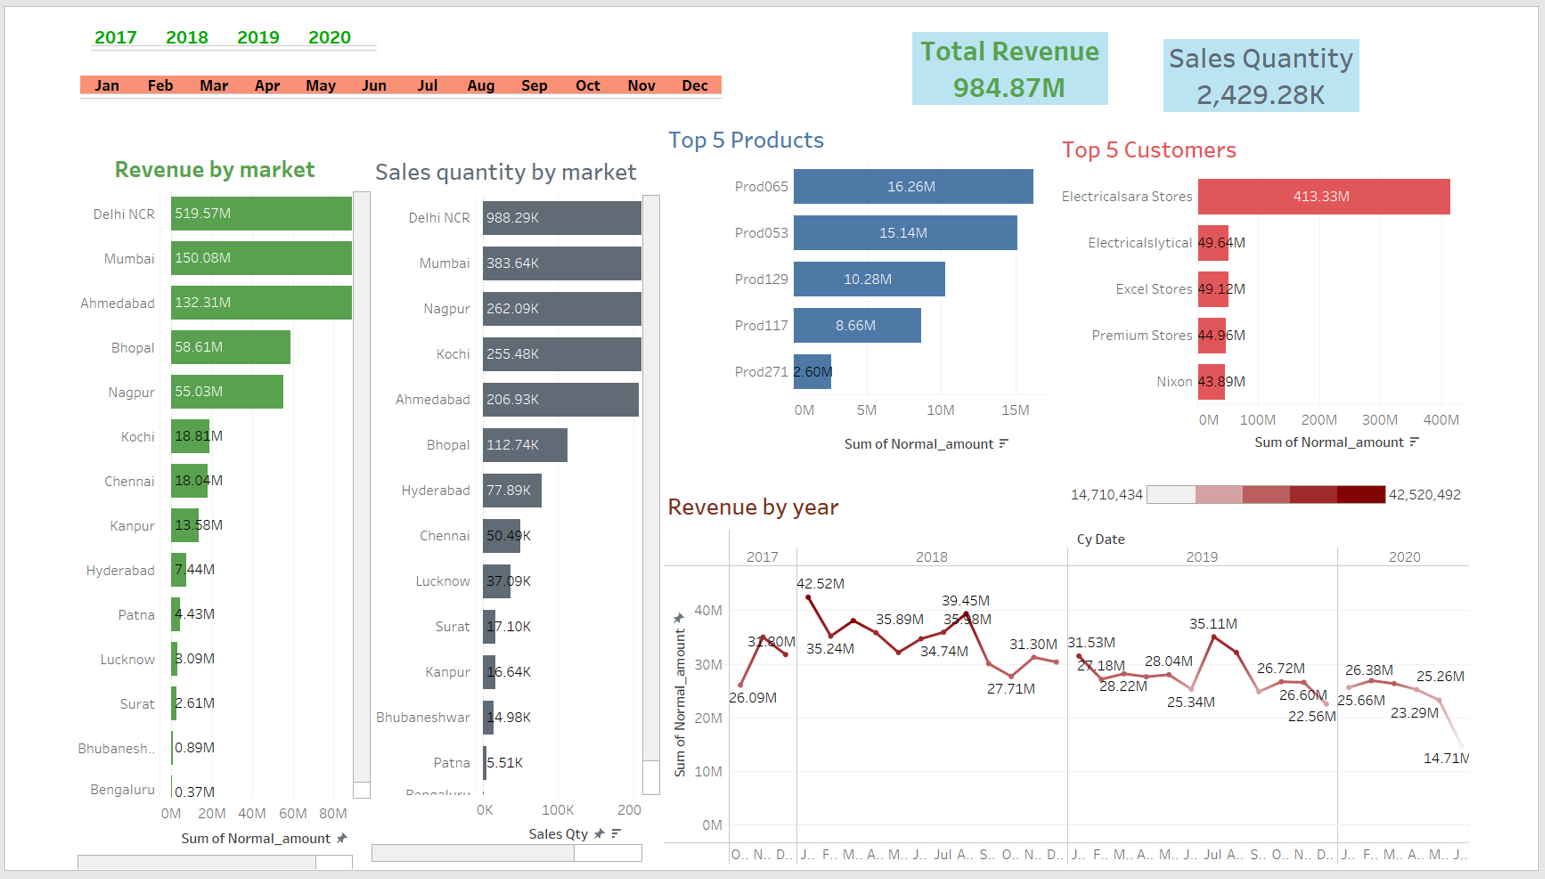

What the dashboard file says about the page in this screenshot:
{"tool":"tableau","page":{"name":"DBD_Revenue analysis","canvas":[1566,968],"ordinal":0},"visuals":[{"type":"worksheet","title":"Year filter","mark":"Automatic","cols":["cy_date"],"box":[19,7,344,46]},{"type":"worksheet","title":"Revenue","mark":"Automatic","box":[941,13,226,135]},{"type":"worksheet","title":"Quantity","mark":"Automatic","box":[1223,21,250,110]},{"type":"worksheet","title":"month_filter","mark":"Automatic","cols":["cy_date"],"box":[7,62,748,69]},{"type":"worksheet","title":"Top5_Products","mark":"Automatic","rows":["product_code (products)"],"cols":["Calculation_332984931575488516"],"box":[663,125,428,398]},{"type":"worksheet","title":"Top5_Customer","mark":"Automatic","rows":["custmer_name"],"cols":["Calculation_332984931575488516"],"box":[1105,136,453,369]},{"type":"worksheet","title":"Revenue_Markets","mark":"Automatic","rows":["markets_name"],"cols":["Calculation_332984931575488516"],"box":[4,158,329,814]},{"type":"worksheet","title":"Quantity_market","mark":"Automatic","rows":["markets_name"],"cols":["sales_qty"],"box":[334,161,324,799]},{"type":"worksheet","title":"Revenue_year","mark":"Automatic","rows":["Calculation_332984931575488516"],"cols":["cy_date","cy_date"],"param":"[federated.1gqq2of0pa1cmj1chzroj15uwdbs].[sum:Calculation_332984931575488516:qk]","box":[1115,533,447,49]},{"type":"worksheet","title":"Revenue_year","mark":"Automatic","rows":["Calculation_332984931575488516"],"cols":["cy_date","cy_date"],"box":[662,537,909,427]}]}

Visuals, with their boxes on the page's 1566x968 design canvas (x1, y1, x2, y2). These are canvas units, not pixel positions in the 1545x879 screenshot, which may show the page scaled, cropped or inside an application window:
"Year filter" worksheet: left=19, top=7, right=363, bottom=53
"Revenue" worksheet: left=941, top=13, right=1167, bottom=148
"Quantity" worksheet: left=1223, top=21, right=1473, bottom=131
"month_filter" worksheet: left=7, top=62, right=755, bottom=131
"Top5_Products" worksheet: left=663, top=125, right=1091, bottom=523
"Top5_Customer" worksheet: left=1105, top=136, right=1558, bottom=505
"Revenue_Markets" worksheet: left=4, top=158, right=333, bottom=972
"Quantity_market" worksheet: left=334, top=161, right=658, bottom=960
"Revenue_year" worksheet: left=1115, top=533, right=1562, bottom=582
"Revenue_year" worksheet: left=662, top=537, right=1571, bottom=964
